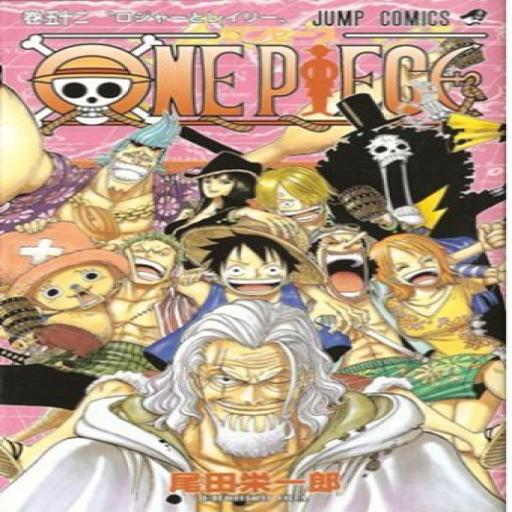Luffy: (182, 219, 324, 300)
Nami: (366, 228, 462, 292)
NicoRobin: (184, 152, 262, 202)
Usopp: (307, 220, 377, 302)
Zoro: (119, 226, 186, 289)
sanji: (250, 159, 339, 222)
